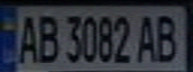0: (78, 11, 96, 64)
2: (112, 11, 136, 64)
3: (60, 11, 84, 63)
8: (97, 11, 118, 64)
A: (12, 10, 42, 64), (133, 10, 160, 63)
B: (151, 10, 187, 64), (33, 10, 60, 64)
